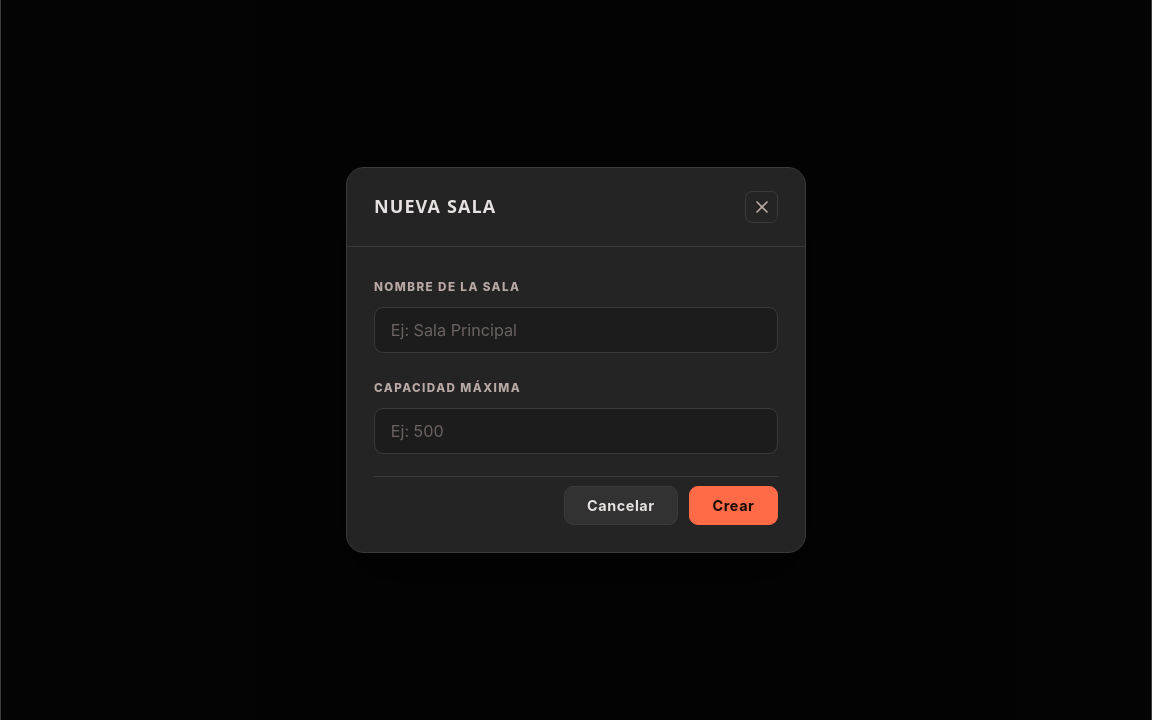
RoomFormModal › shows error when submitting with capacity 0 or negative
Type "Sala A" into the field labelled "Nombre de la Sala".
click(576, 330); type("Sala A")  # box [374,307,778,352]
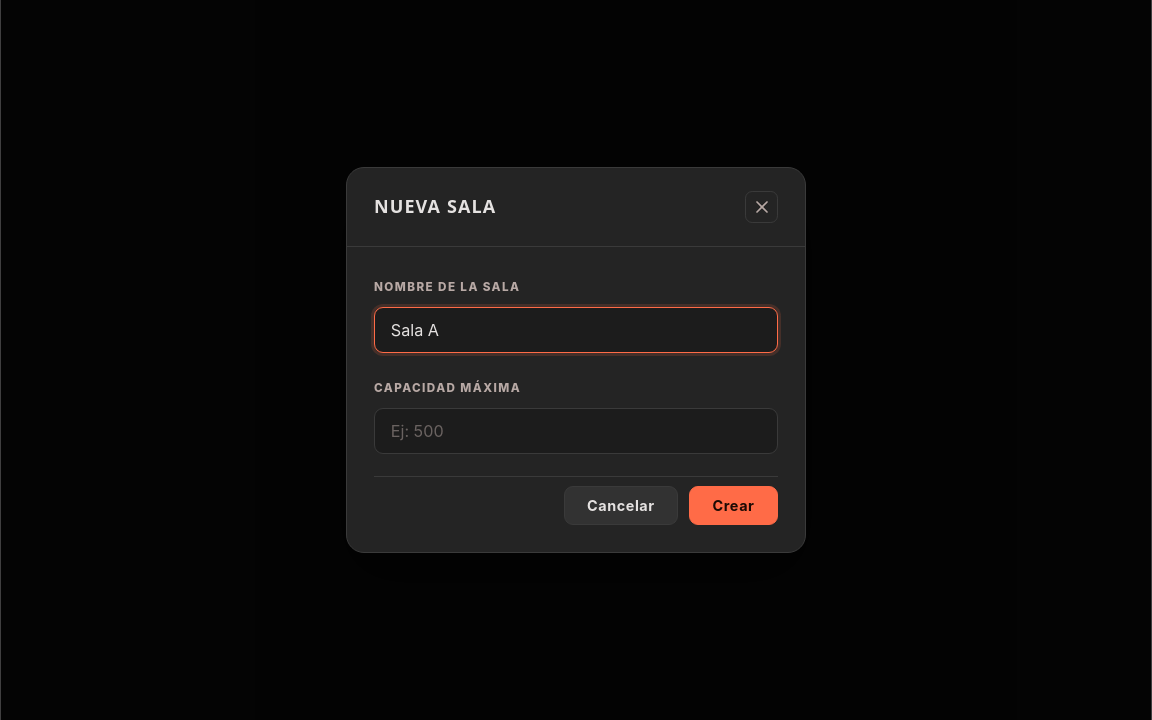
# WHEN — capacity left empty (0)
Click the button "Crear".
click(734, 506)  # box [689,486,778,525]
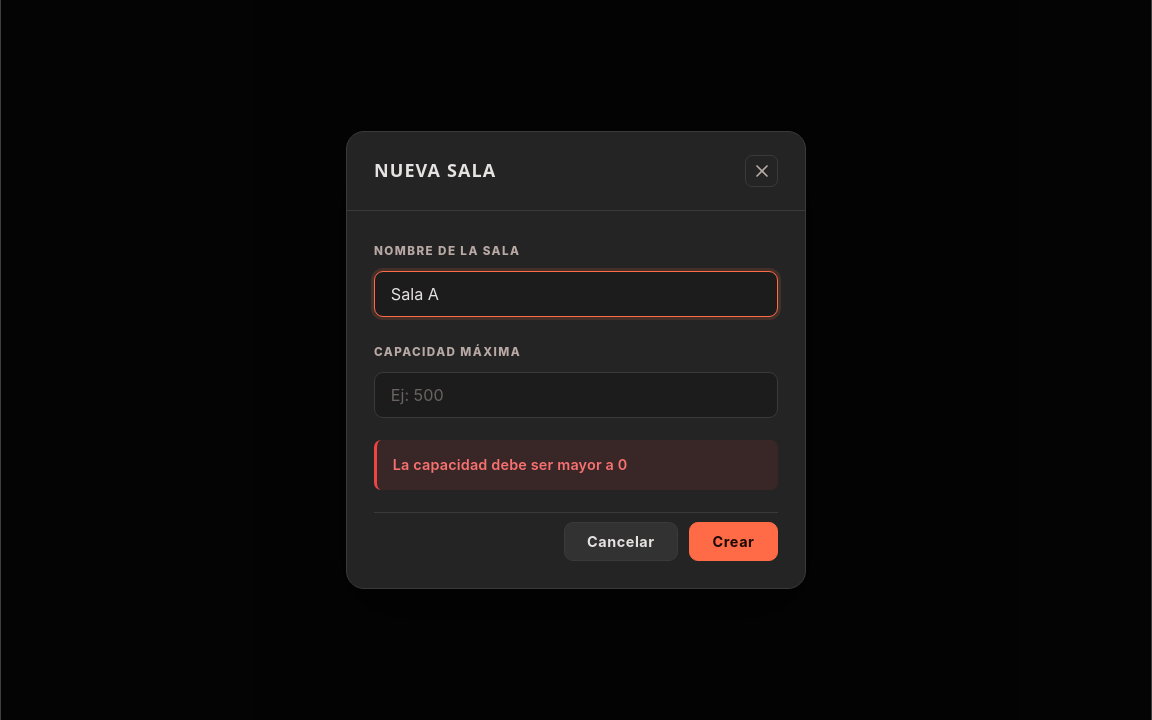
Result: the text "La capacidad debe ser mayor a 0" is shown at [374,440,778,490]
